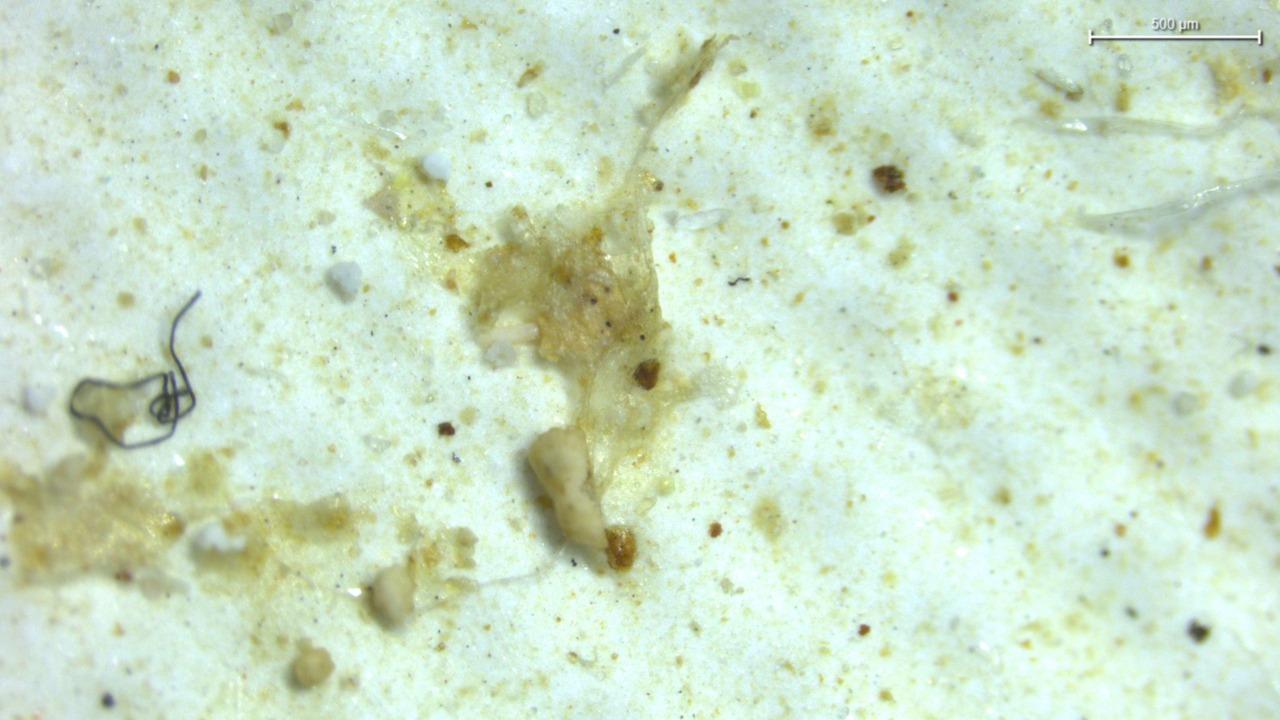microplastic_fragment: (365, 34, 731, 567)
